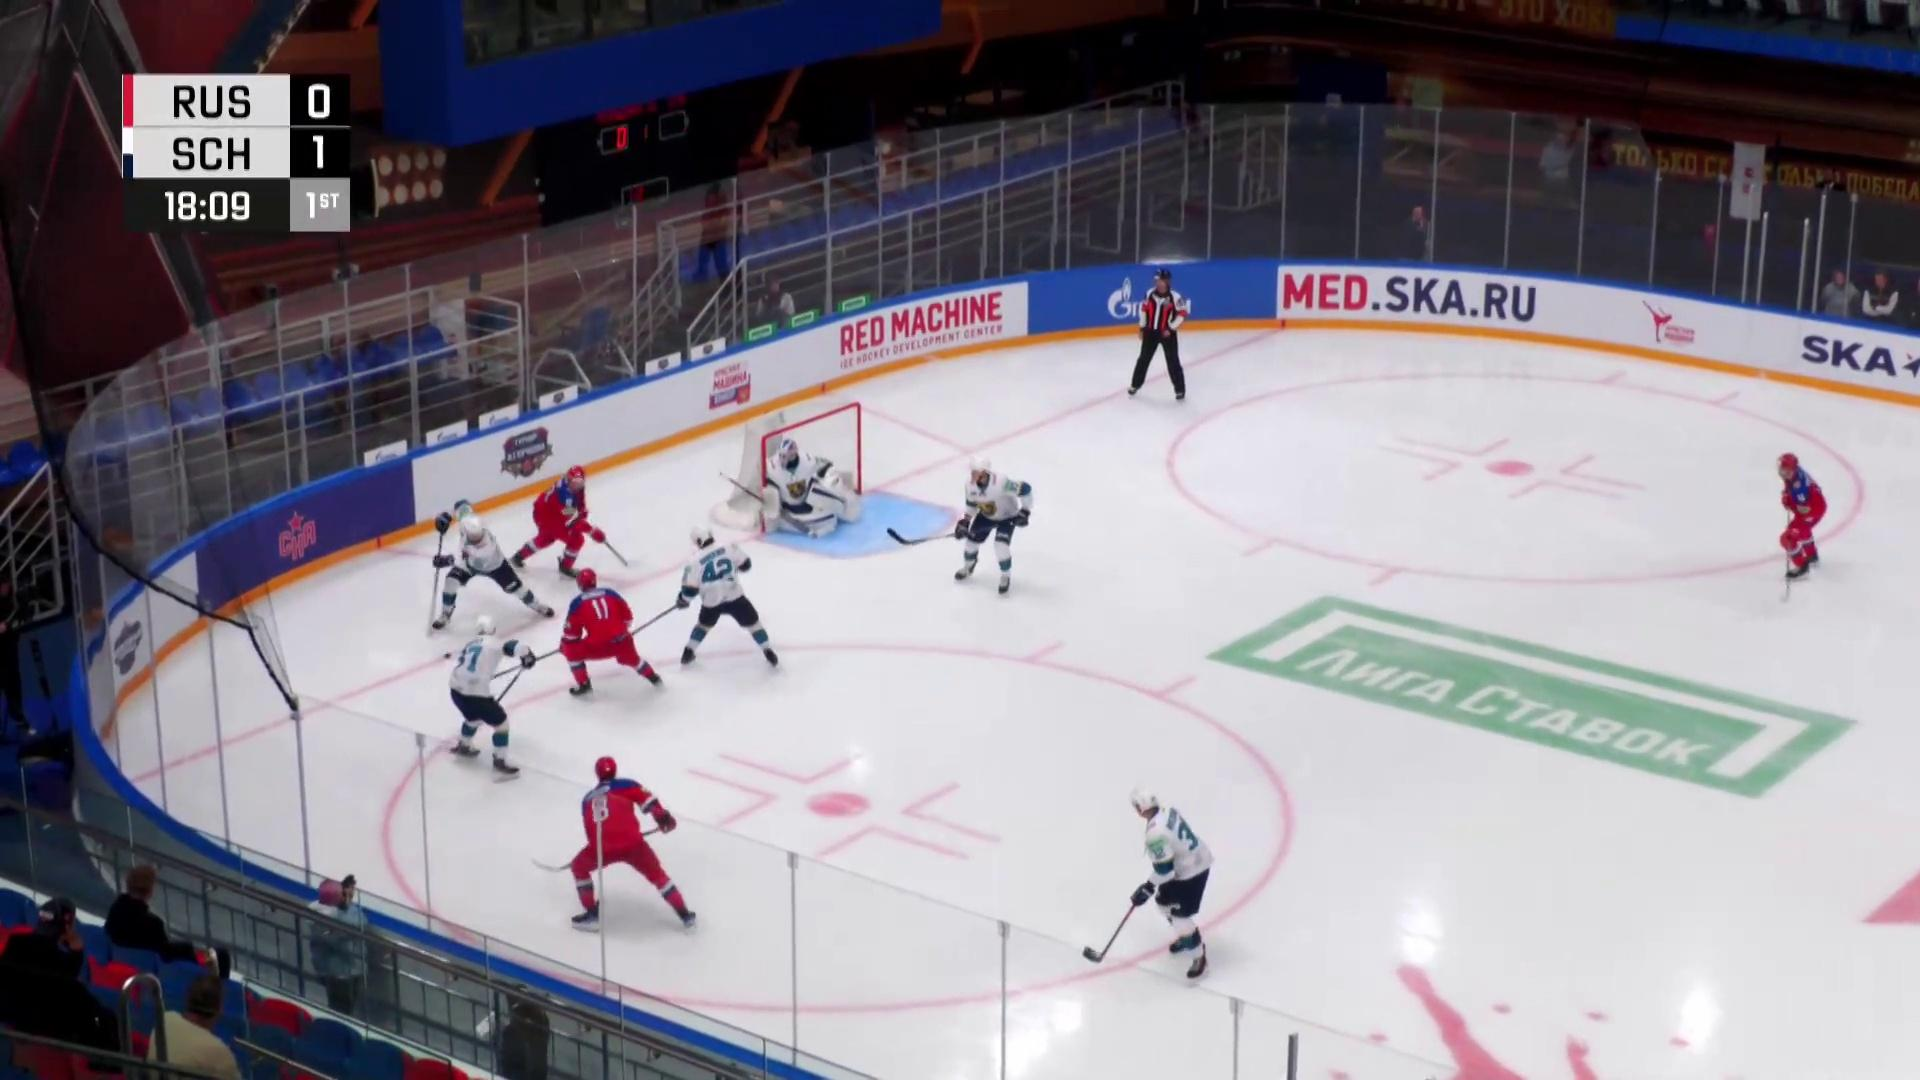ball: (443, 651, 452, 661)
